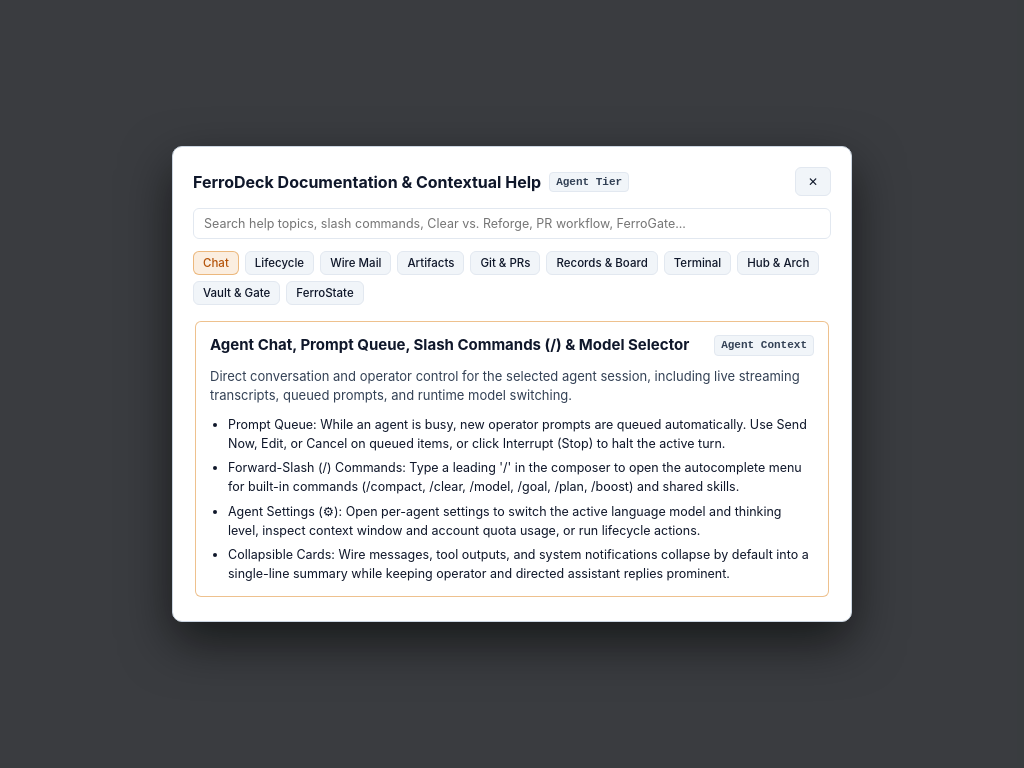
Test: Wave A UI — Records 10, 4 & 29 › Record 10 — Contextual Help (?) Drawer & View-Targeted Documentation › renders all 9 help topics, switches active topic on pill click, and filters via help-search-input
Expected: the element with test id "help-active-topic-content" shows "Agent Chat, Prompt Queue, Slash Commands (/) & Model Selector", x1=210 y1=335 x2=689 y2=354
Note: Click 'gate' topic pill
Click the button with test id "help-topic-gate" at [237, 293], box x1=193 y1=281 x2=280 y2=305
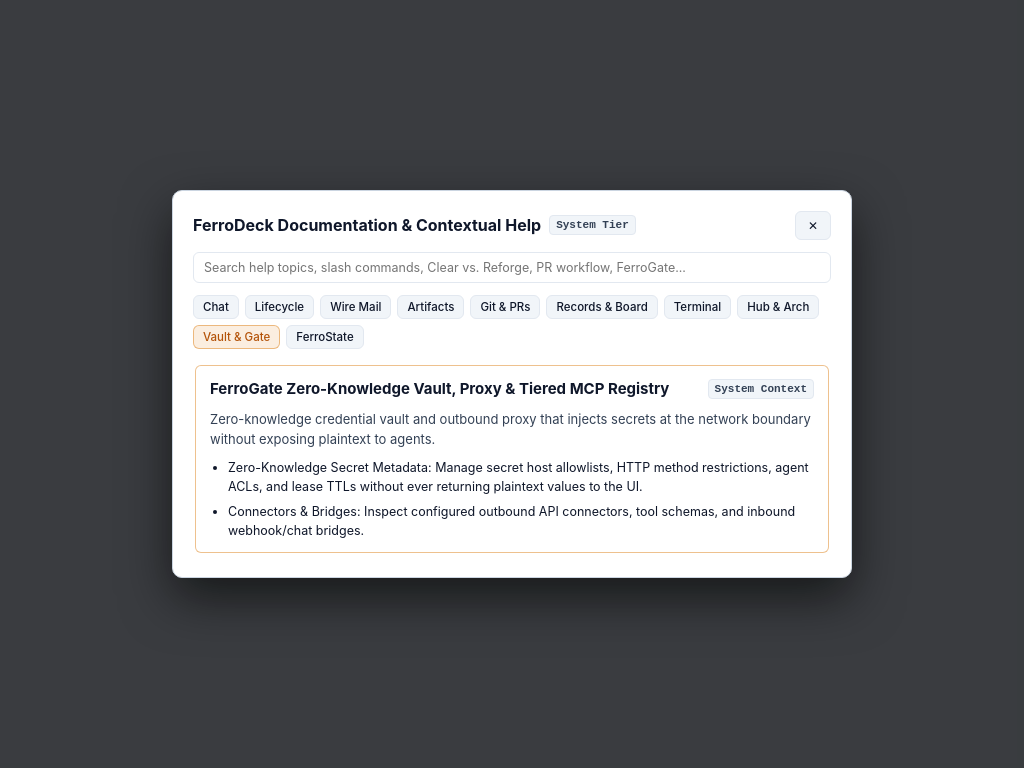
Expected: the element with test id "help-active-topic-content" shows "FerroGate Zero-Knowledge Vault, Proxy & Tiered MCP Registry", x1=210 y1=379 x2=669 y2=398
Note: Filter via search input
Replace the text in the search field with test id "help-search-input" with "Reforge" at [512, 267], box x1=193 y1=252 x2=831 y2=283
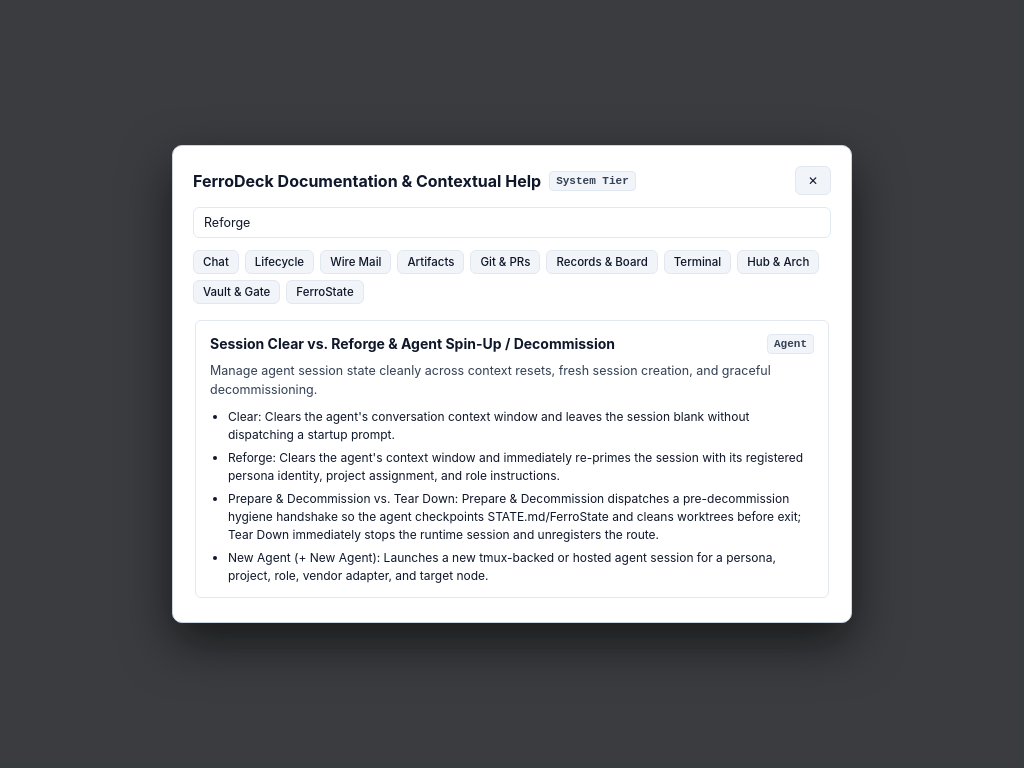
Expected: the element with test id "help-section-lifecycle" shows "Session Clear vs. Reforge & Agent Spin-Up / Decommission", x1=210 y1=335 x2=615 y2=352
